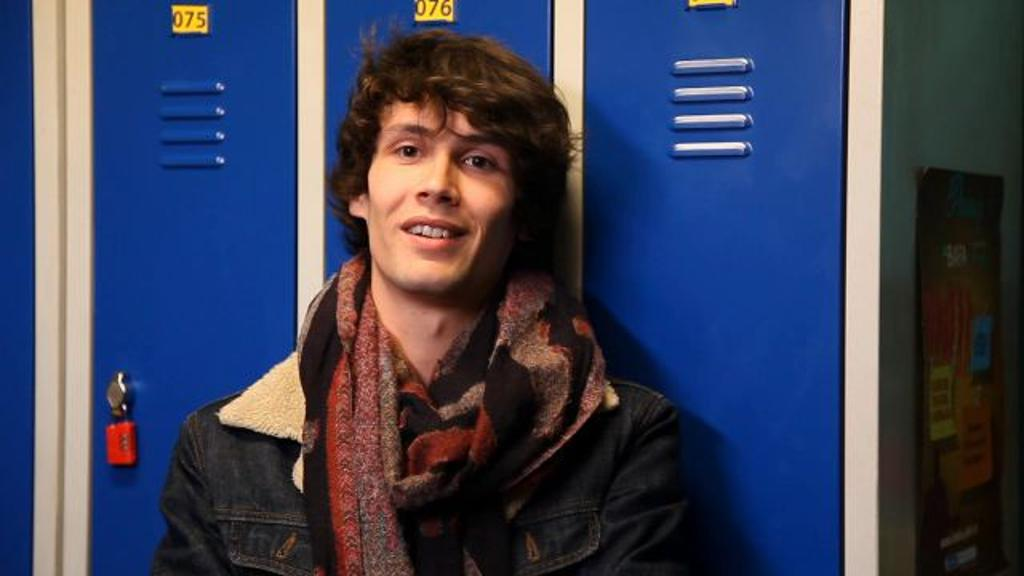face: (376, 98, 508, 278)
